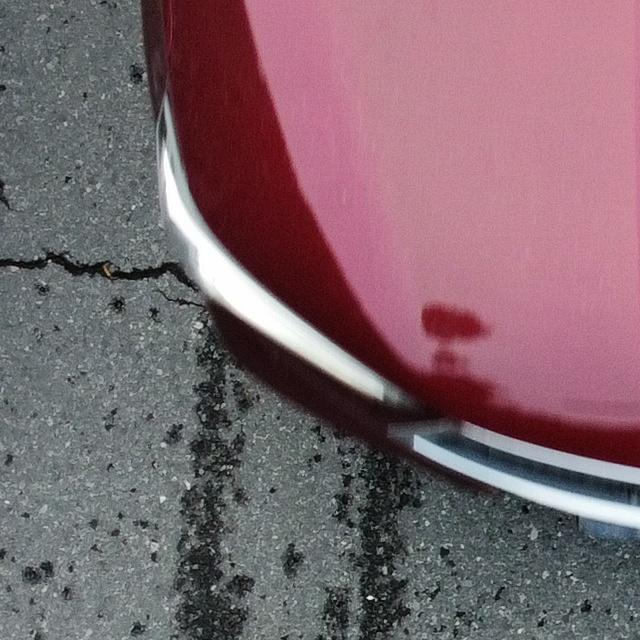TransverseCrack: (1, 248, 196, 289)
